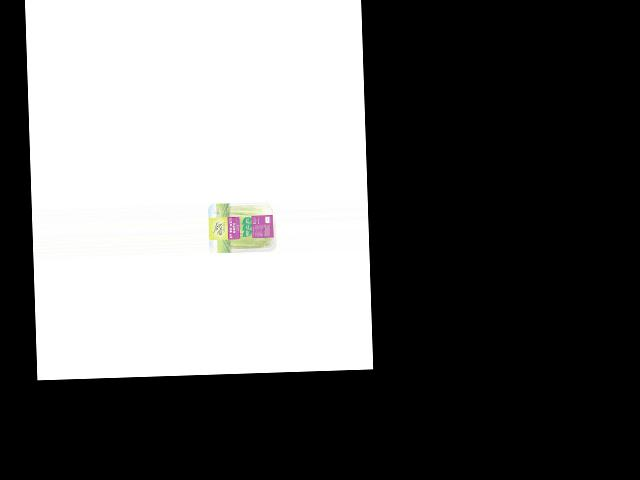lettuce: (212, 200, 277, 253)
